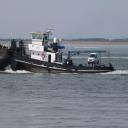tugboat: (10, 29, 118, 76)
